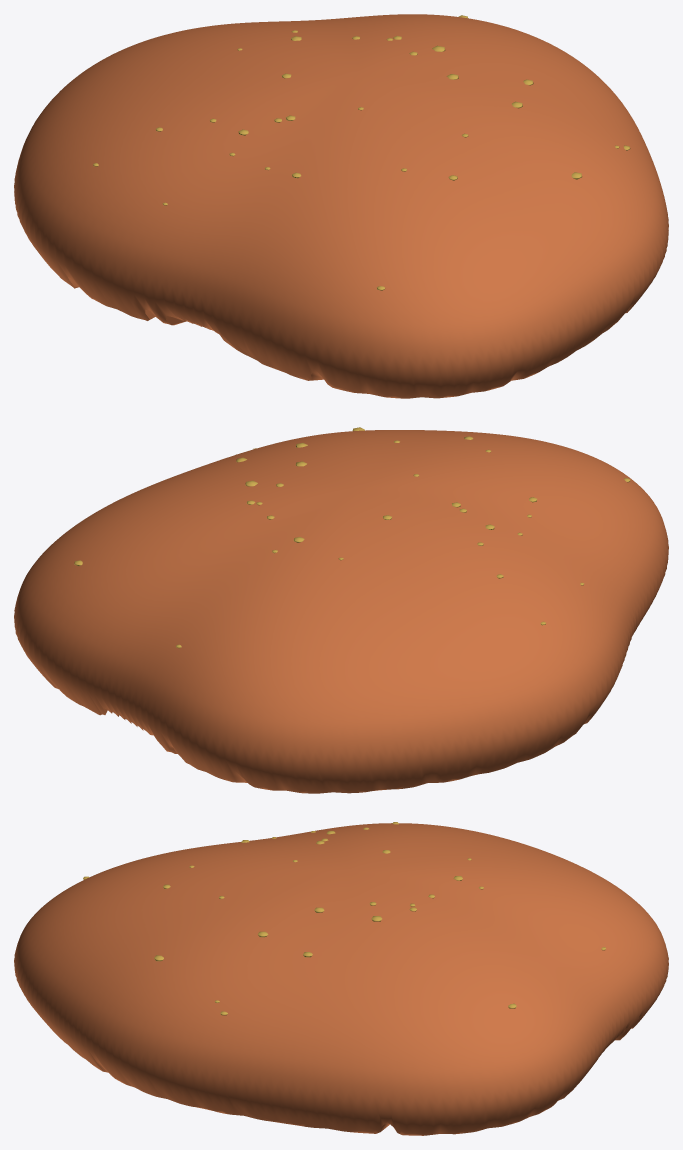
Rendered from jewelry.glb.
3 views of the same model, one above another, from view 1: azimuth 30°, elevation 25°; view 2: azimuth 150°, elevation 25°; view 3: azimuth 270°, elevation 25° (orthographic). The views are drawn at different scales.
Parts seen in each view (by area): view 1: Gemstone Sunstone; view 2: Gemstone Sunstone; view 3: Gemstone Sunstone.
Boxes of the visible parts, bbox=[...] form: Gemstone Sunstone: bbox=[14, 14, 668, 398]; Gemstone Sunstone: bbox=[14, 430, 668, 793]; Gemstone Sunstone: bbox=[14, 823, 668, 1135].
Bounding box in the file's own units: 2.04 × 0.5998 × 2.36.
